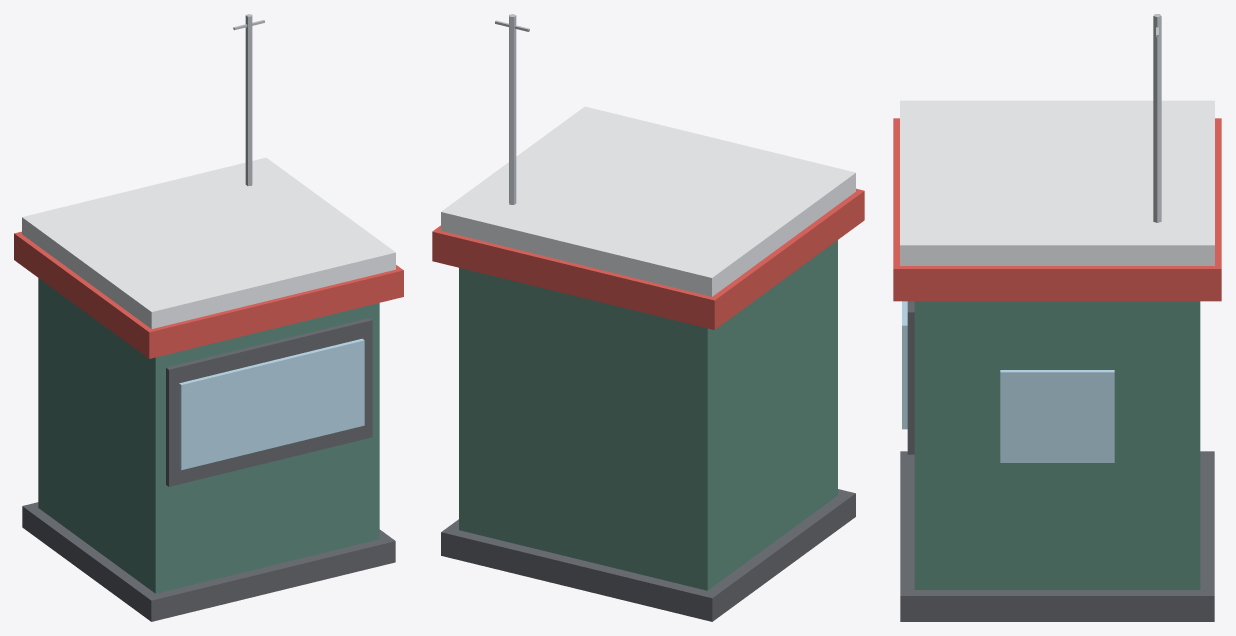
File: ski-resort-and-snow-park-timing-hut-8d74e179__25986.glb
The picture shows the model from 3 angles, left to right: view 1: azimuth 30°, elevation 25°; view 2: azimuth 150°, elevation 25°; view 3: azimuth 270°, elevation 25°; orthographic projection. The views are drawn at different scales.
Parts seen in each view (by area): view 1: timing-hut; view 2: timing-hut; view 3: timing-hut.
Part boxes in pixels (x1,y1,x2,y2): timing-hut: (14,14,403,621); timing-hut: (432,14,864,621); timing-hut: (893,14,1221,621).
Size of the model in its own units: 2.5 by 4.5 by 2.3.
